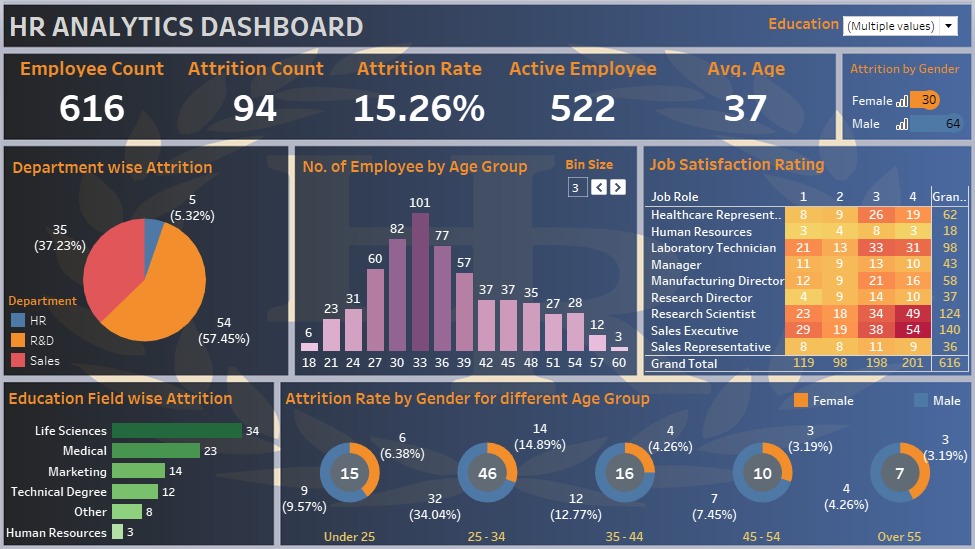

The dashboard page shown, as its layout file describes it:
{"tool":"tableau","page":{"name":"HR ANALYTICS DASHBOARD","canvas":[1000,800],"ordinal":0},"visuals":[{"type":"image","param":"C:/Users/SURAJ/Desktop/HR background.png","box":[8,8,984,784]},{"type":"text","box":[19,130,423,40]},{"type":"filter","title":"Department wise Attrition","param":"[federated.04gdsbm1pvhvqo1dj10gt05u7imk].[none:Education:nk]","box":[781,138,193,27]},{"type":"worksheet","title":"Attrition by Gender","mark":"Automatic","rows":["Gender"],"cols":["Calculation_110619715169284096","Calculation_110619715169284096"],"box":[859,181,120,79]},{"type":"worksheet","title":"KPI","mark":"Automatic","box":[23,182,819,77]},{"type":"worksheet","title":"Job Satisfaction Rating","mark":"Square","rows":["Job Role"],"cols":["Job Satisfaction"],"box":[658,274,324,223]},{"type":"worksheet","title":"No. of Employee by Age Group","mark":"Automatic","rows":["Employee Count"],"cols":["Age (bin)"],"box":[311,276,333,221]},{"type":"worksheet","title":"Department wise Attrition","mark":"Pie","box":[21,277,273,219]},{"type":"parameter","param":"[Parameters].[Parameter 1]","box":[578,280,64,44]},{"type":"legend","title":"Department wise Attrition","param":"[federated.04gdsbm1pvhvqo1dj10gt05u7imk].[none:Department:nk]","box":[21,417,75,78]},{"type":"worksheet","title":"Education Field wise Attrition","mark":"Automatic","rows":["Education Field"],"cols":["Calculation_110619715169284096"],"box":[17,508,268,159]},{"type":"worksheet","title":"Attrition Rate by Gender for different Age Group","mark":"Pie","rows":["Calculation_110619715230289924","Calculation_110619715230289924"],"cols":["CF_age band"],"box":[294,508,688,161]}]}

Visuals, with their boxes on the page's 1000x800 design canvas (x1, y1, x2, y2). These are canvas units, not pixel positions in the 975x549 screenshot, which may show the page scaled, cropped or inside an application window:
image: (8, 8, 992, 792)
text: (19, 130, 442, 170)
"Department wise Attrition" filter: (781, 138, 974, 165)
"Attrition by Gender" worksheet: (859, 181, 979, 260)
"KPI" worksheet: (23, 182, 842, 259)
"Job Satisfaction Rating" worksheet (Square marks): (658, 274, 982, 497)
"No. of Employee by Age Group" worksheet: (311, 276, 644, 497)
"Department wise Attrition" worksheet (Pie marks): (21, 277, 294, 496)
parameter: (578, 280, 642, 324)
"Department wise Attrition" legend: (21, 417, 96, 495)
"Education Field wise Attrition" worksheet: (17, 508, 285, 667)
"Attrition Rate by Gender for different Age Group" worksheet (Pie marks): (294, 508, 982, 669)
